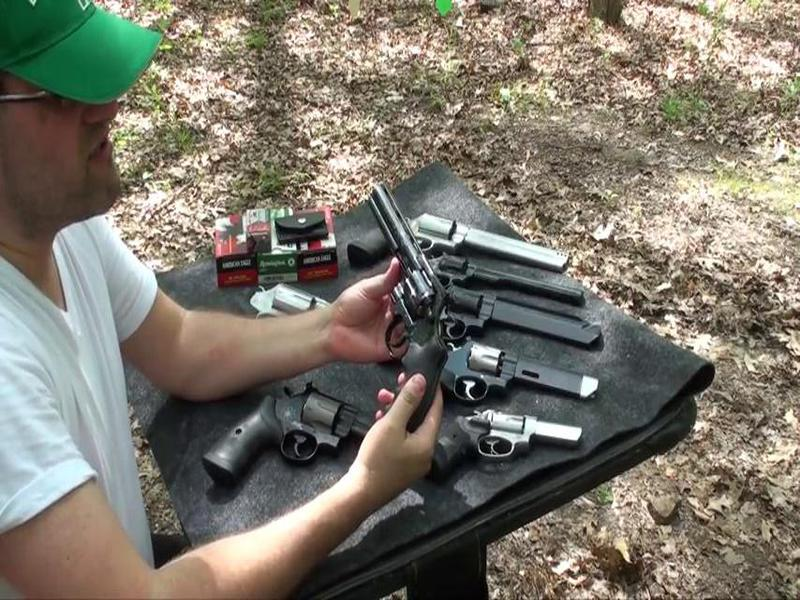Revolver: (357, 168, 490, 434)
